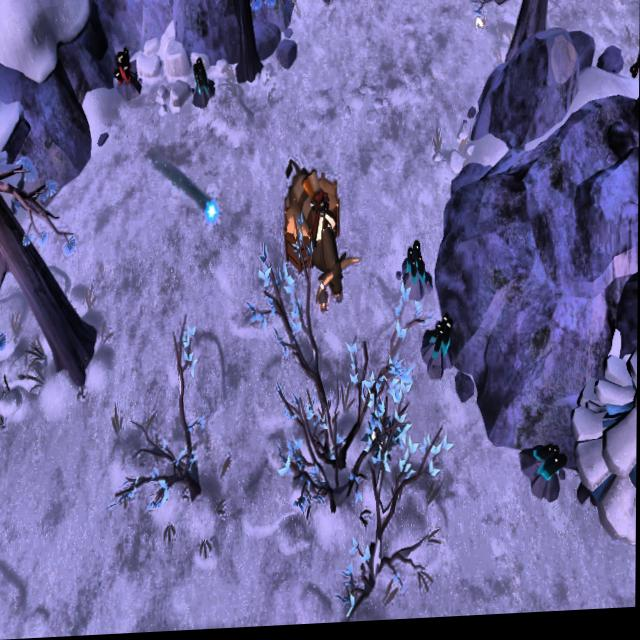ore_t4: (533, 446, 569, 493), (427, 314, 453, 373), (403, 244, 431, 288), (193, 56, 210, 100)
ore_t5: (114, 49, 134, 86)
